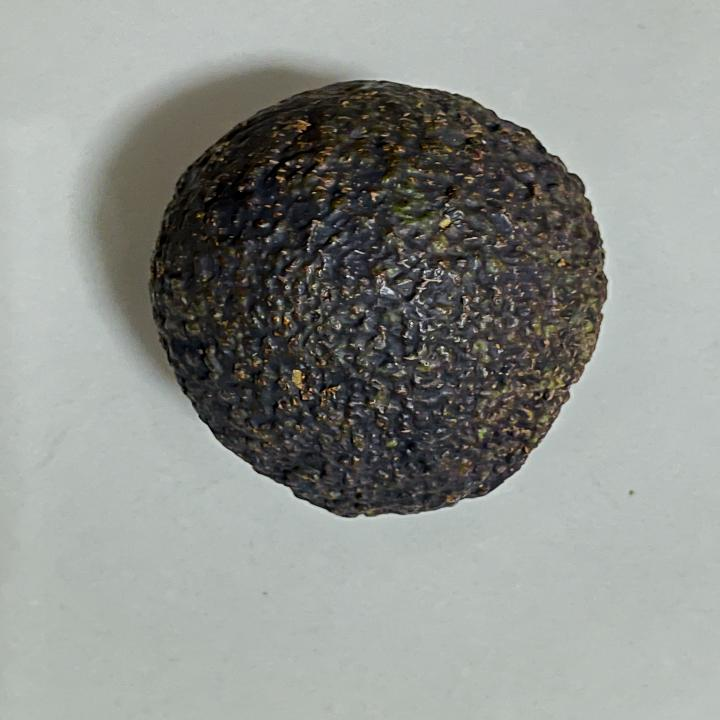Level2: (145, 75, 616, 530)
